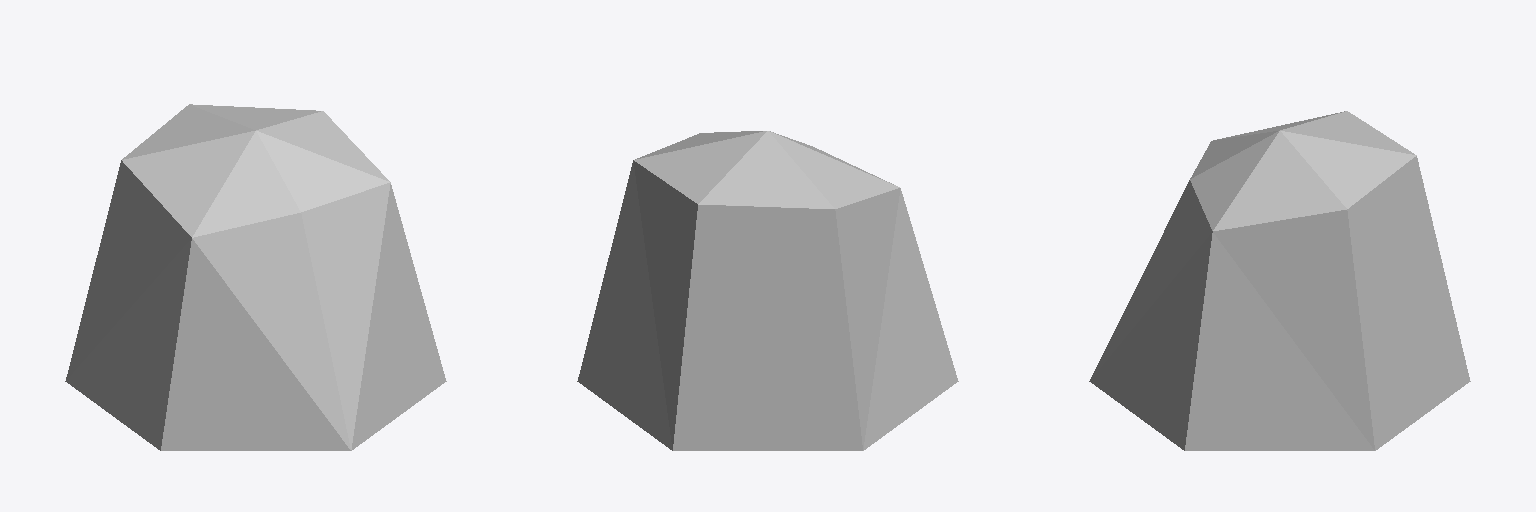
File: hitBoxigloo.obj
3 views of the same model, side by side, from view 1: azimuth 30°, elevation 25°; view 2: azimuth 150°, elevation 25°; view 3: azimuth 270°, elevation 25° (orthographic).
Parts seen in each view (by area): view 1: hitBoxIgloo; view 2: hitBoxIgloo; view 3: hitBoxIgloo.
Boxes of the visible parts, x1=… form: hitBoxIgloo: x1=65, y1=104, x2=446, y2=450; hitBoxIgloo: x1=577, y1=131, x2=958, y2=450; hitBoxIgloo: x1=1089, y1=111, x2=1470, y2=450.
Bounding box in the file's own units: 1.21 × 1.01 × 1.39.